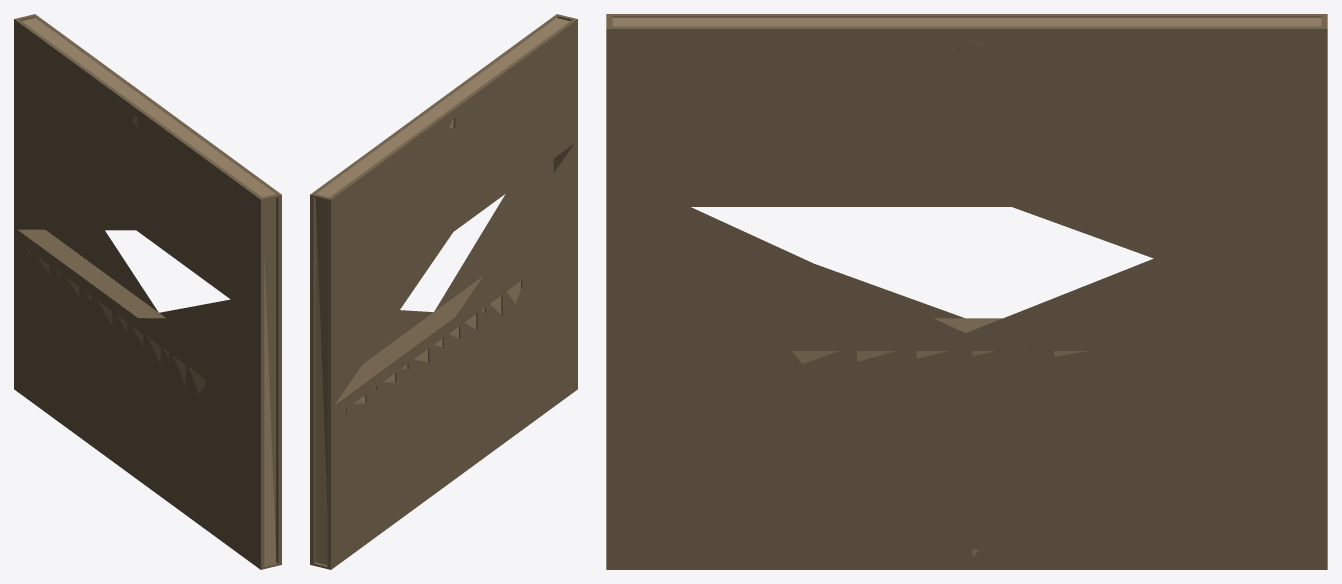
The model's file is Window.fbx.
3 views of the same model, side by side, from view 1: azimuth 30°, elevation 25°; view 2: azimuth 150°, elevation 25°; view 3: azimuth 270°, elevation 25° (orthographic). The views are drawn at different scales.
Parts seen in each view (by area): view 1: Details, Wall; view 2: Details, Wall; view 3: Details, Wall.
Boxes of the visible parts, x1=… form: Details: x1=14, y1=14, x2=281, y2=569; Wall: x1=22, y1=18, x2=276, y2=564; Details: x1=310, y1=14, x2=577, y2=569; Wall: x1=315, y1=18, x2=569, y2=564; Details: x1=606, y1=14, x2=1327, y2=569; Wall: x1=612, y1=17, x2=1321, y2=556.
Bounding box in the file's own units: 0.6003 × 10.11 × 12.21.
